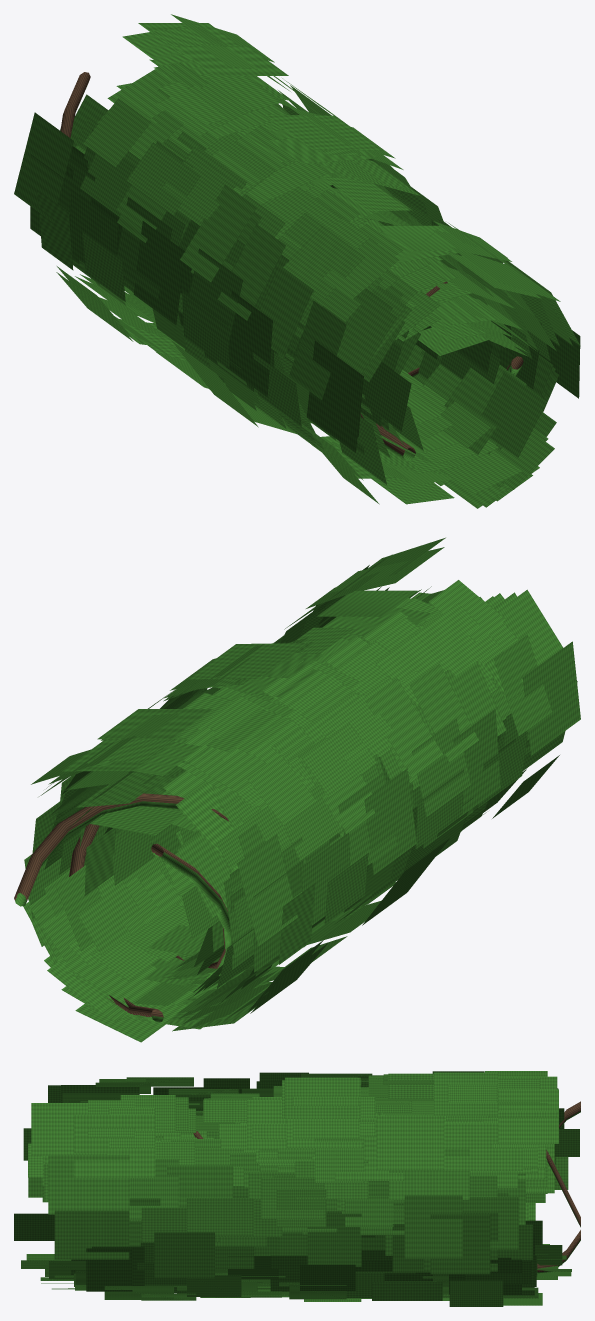
Rendered from veg_vine_ivy_01.glb.
3 views of the same model, one above another, from view 1: azimuth 30°, elevation 25°; view 2: azimuth 150°, elevation 25°; view 3: azimuth 270°, elevation 25° (orthographic). The views are drawn at different scales.
Parts seen in each view (by area): view 1: veg_vine_ivy_01; view 2: veg_vine_ivy_01; view 3: veg_vine_ivy_01.
Boxes of the visible parts, box(x1,y1,x2,y2) form: veg_vine_ivy_01: box(14, 14, 580, 508); veg_vine_ivy_01: box(14, 537, 580, 1042); veg_vine_ivy_01: box(14, 1071, 580, 1306).
Size of the model in its own units: 0.7555 by 0.7768 by 1.8.
Materials: 1 (1 with a texture image).
